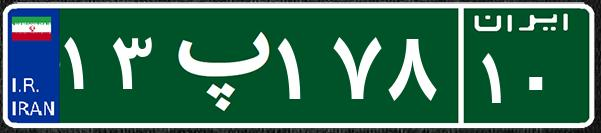0: (525, 38, 570, 115)
1: (273, 28, 330, 110), (57, 26, 110, 107), (475, 38, 525, 113)
3: (110, 28, 158, 105)
7: (330, 28, 385, 110)
8: (385, 28, 445, 110)
پ: (158, 15, 273, 115)
